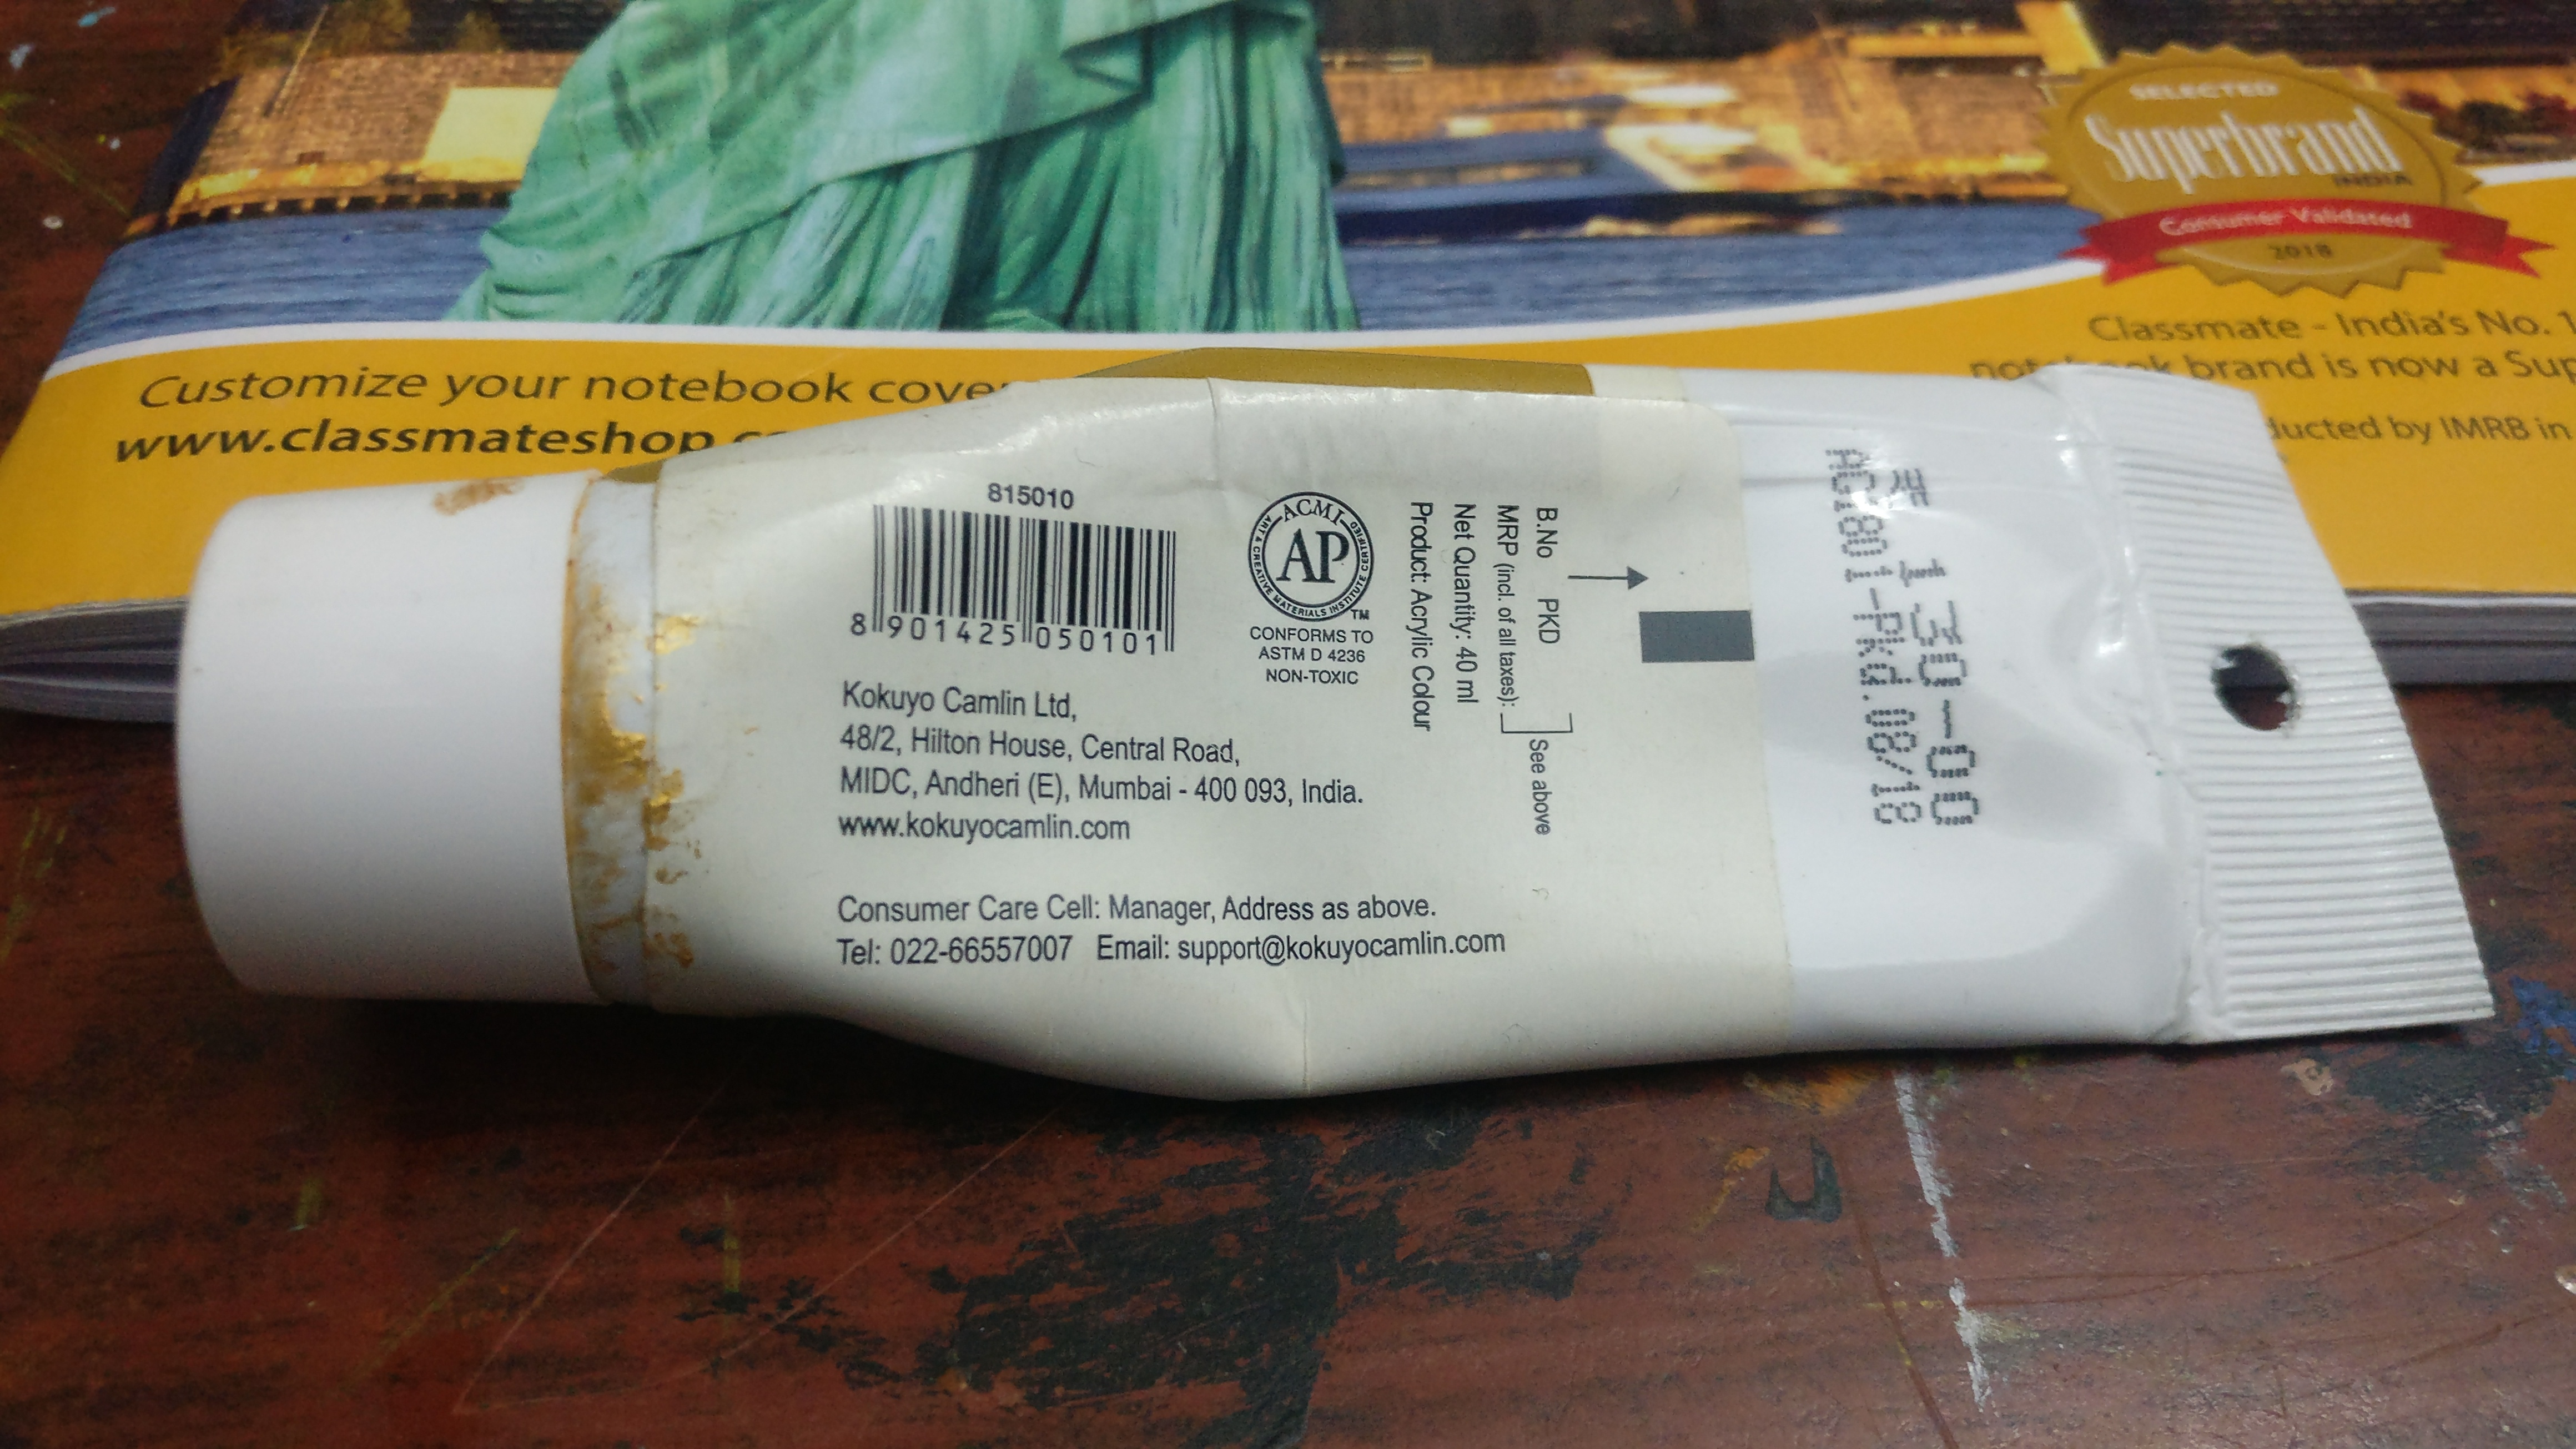barcode: (832, 465, 1192, 676)
